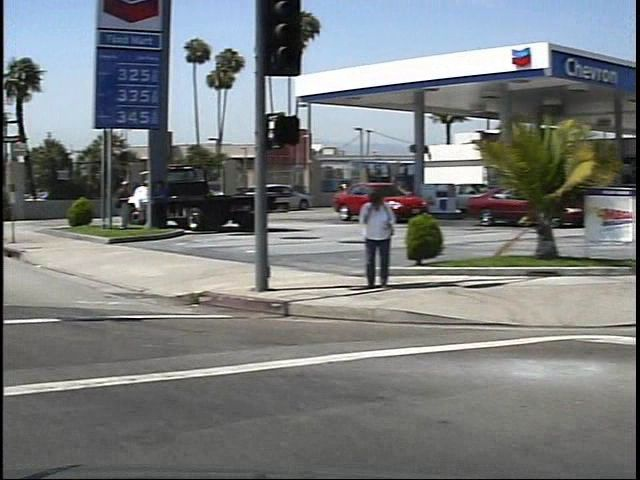person: (346, 185, 387, 292), (106, 177, 127, 233)
